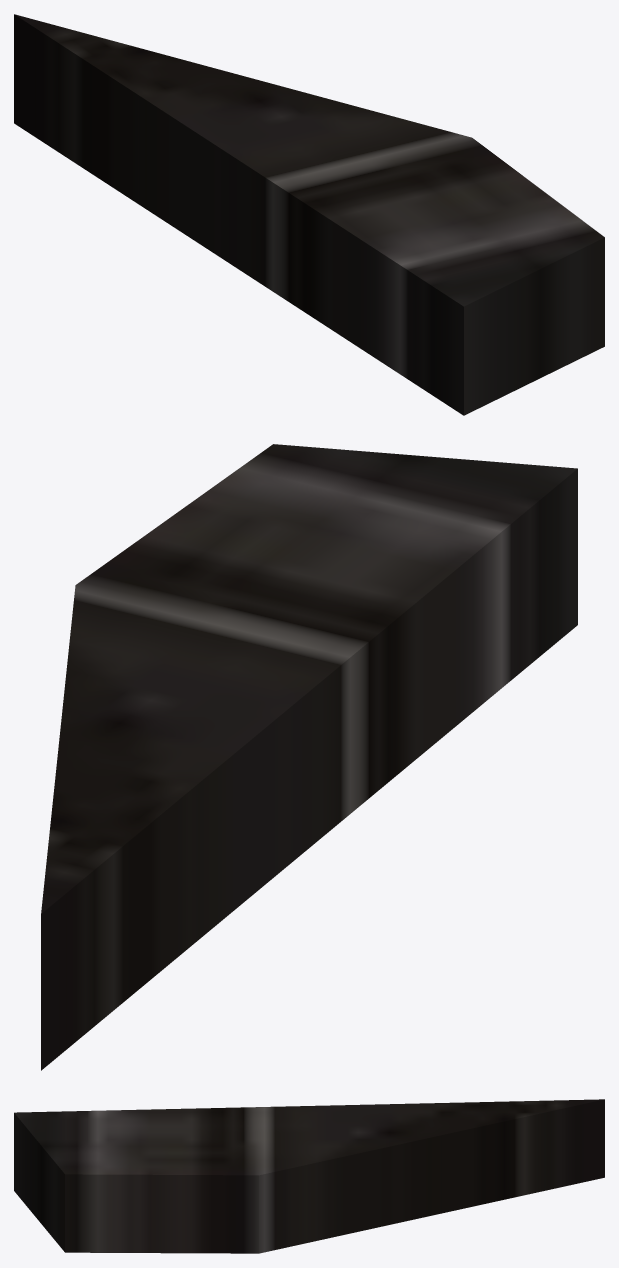
Rendered from gatepart3.glb.
3 views of the same model, one above another, from view 1: azimuth 30°, elevation 25°; view 2: azimuth 150°, elevation 25°; view 3: azimuth 270°, elevation 25° (orthographic). The views are drawn at different scales.
Visible parts, largest first — view 1: model_gatepart3; view 2: model_gatepart3; view 3: model_gatepart3.
Boxes of the visible parts, x1,y1,x2,y2 form: model_gatepart3: (14,14,604,415); model_gatepart3: (41,444,577,1070); model_gatepart3: (14,1099,604,1253).
Bounding box in the file's own units: 0.3149 × 0.1513 × 1.04.
Materials: 1 (1 with a texture image).
